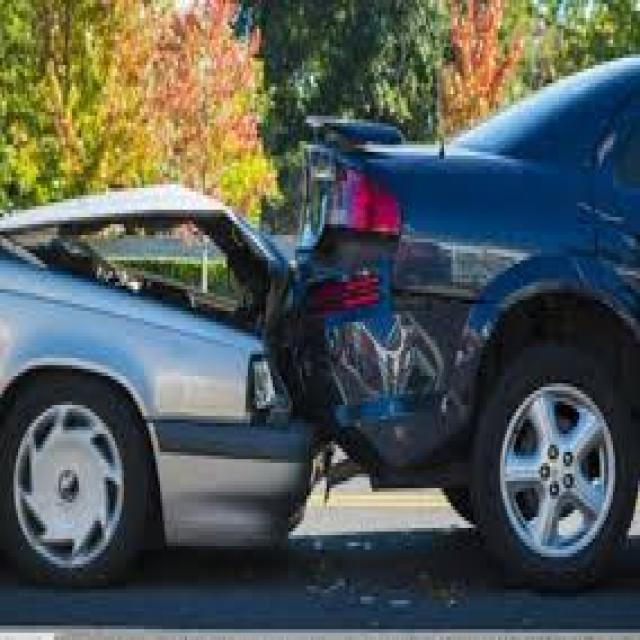accident: (19, 62, 531, 584)
